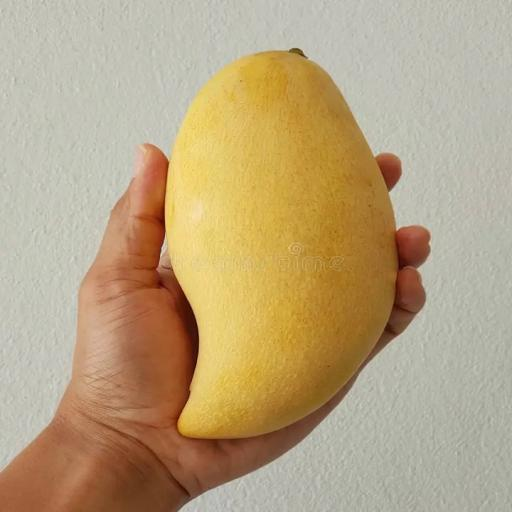mango: (166, 49, 397, 438)
